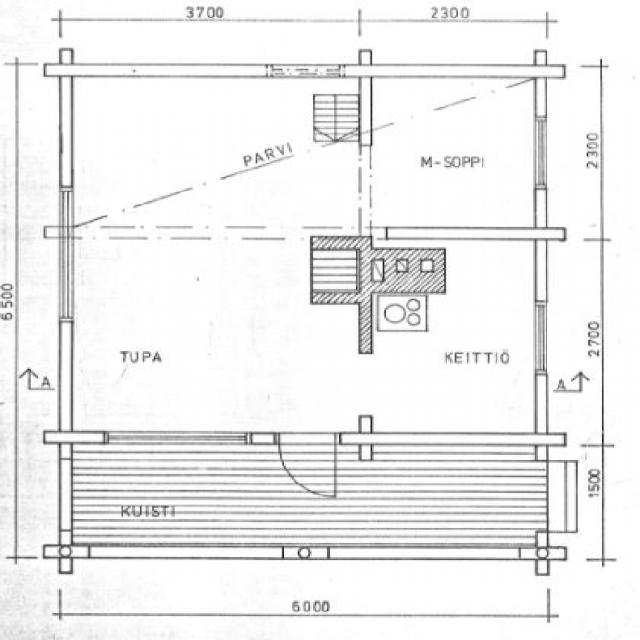door: (278, 433, 335, 496)
